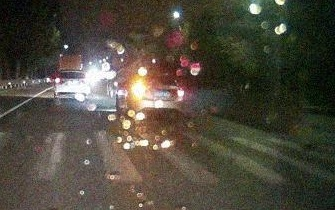L_light: (132, 85, 145, 94), (55, 78, 60, 83)
R_light: (177, 89, 184, 96), (83, 78, 88, 84)
T_light: (152, 76, 161, 78), (69, 72, 76, 73)
night-left: (131, 74, 184, 119)
night-no: (55, 70, 88, 99)
